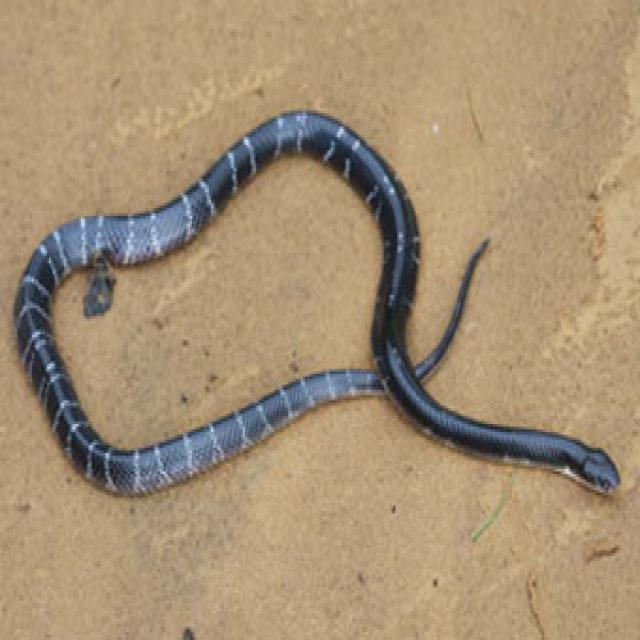Snake: (12, 106, 620, 500)
